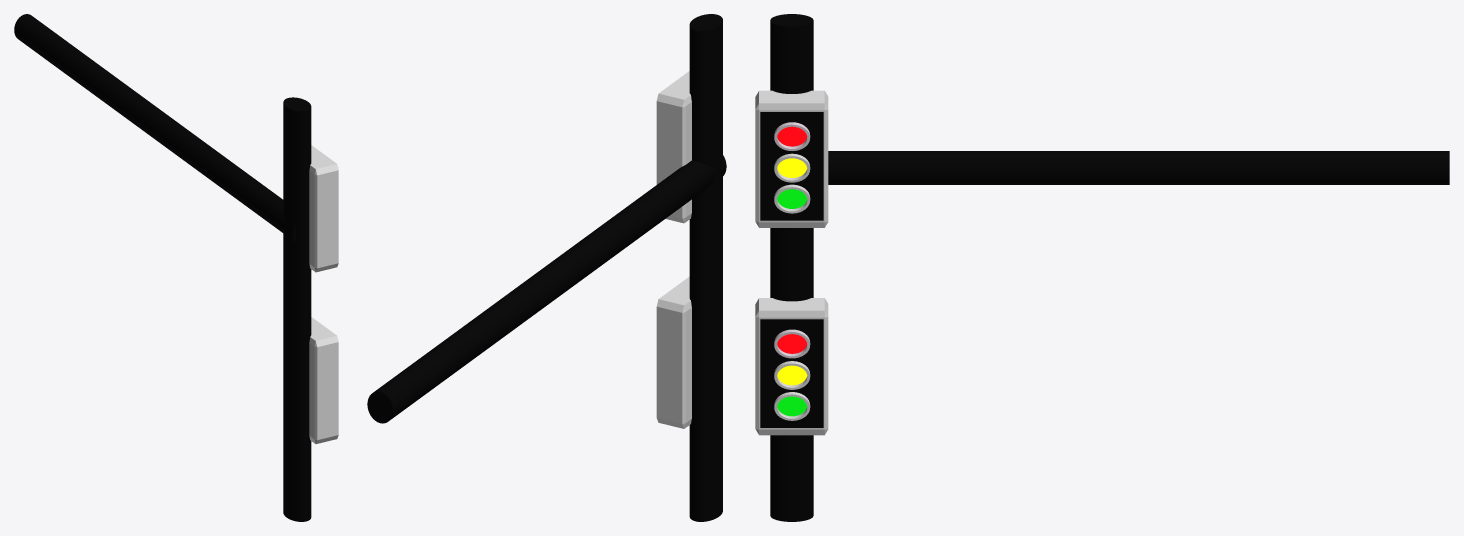
File: EGB_traffic_light_1.fbx
3 views of the same model, side by side, from view 1: azimuth 30°, elevation 25°; view 2: azimuth 150°, elevation 25°; view 3: azimuth 270°, elevation 25° (orthographic). The views are drawn at different scales.
Parts seen in each view (by area): view 1: Cylinder.001, Cylinder, Cube, Cube.001; view 2: Cylinder.001, Cylinder, Cube, Cube.001; view 3: Cylinder, Cylinder.001, Cube, Cube.001.
Part boxes in pixels (box(x1,y1,x2,y2)): Cylinder.001: box(283, 97, 311, 521); Cylinder: box(14, 14, 295, 241); Cube: box(309, 317, 338, 443); Cube.001: box(309, 145, 338, 272); Cylinder.001: box(689, 14, 722, 521); Cylinder: box(367, 155, 726, 423); Cube: box(656, 276, 691, 428); Cube.001: box(656, 71, 691, 223); Cylinder: box(828, 151, 1449, 184); Cylinder.001: box(770, 14, 813, 521); Cube: box(755, 298, 828, 435); Cube.001: box(755, 90, 828, 227).
Size of the model in its own units: 7.1 by 65.62 by 83.33.
